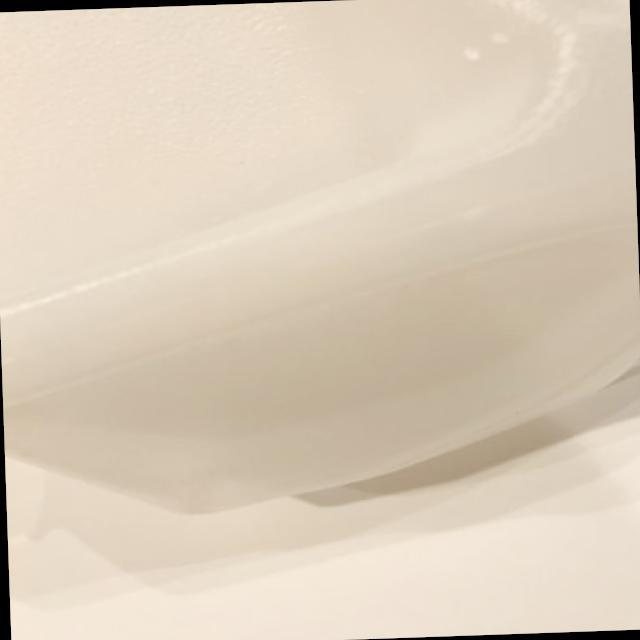HDPE Plastic: (2, 2, 640, 524)
